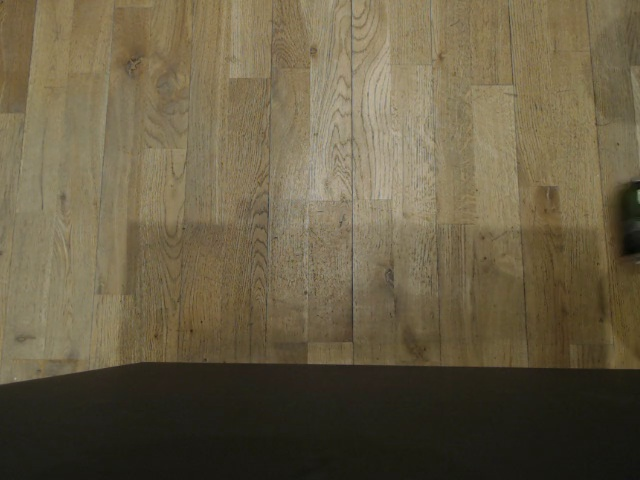beer: (608, 172, 640, 269)
